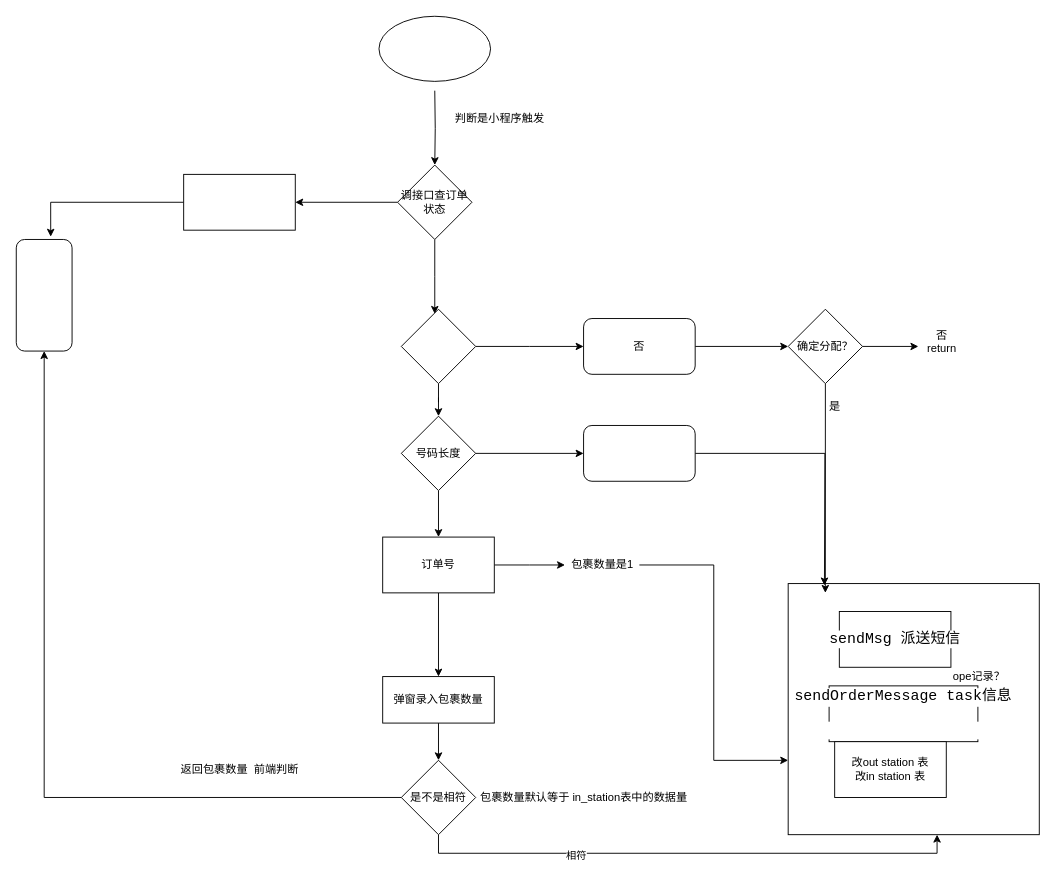
The diagram is 1056 pixels wide and 878 high, and some of its shapes have lost their labels. Each missing label, with the box of its shape:
return 弹出提示信息: (15, 239, 72, 351)
妥投、拒收: (183, 173, 295, 230)
小程序: (378, 15, 491, 81)
是否本站订单？: (400, 308, 476, 384)
运单号: (583, 425, 695, 481)
